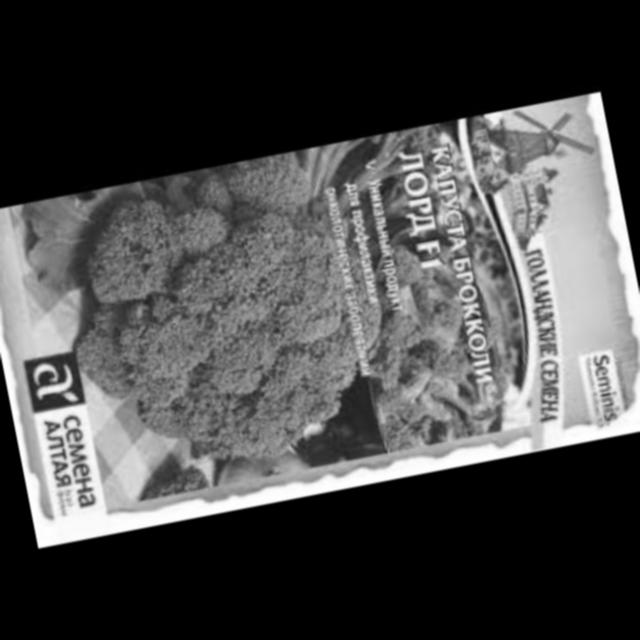broccoli: (59, 140, 406, 468)
